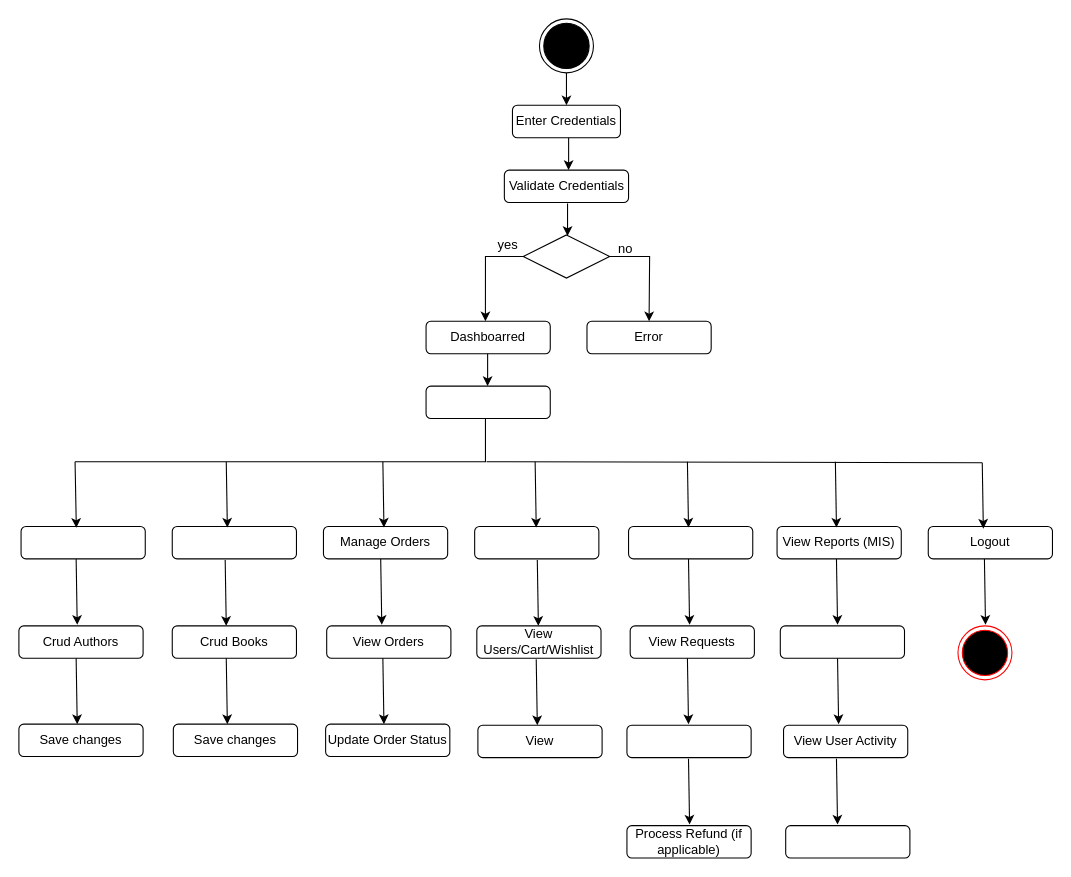
The diagram is 1071 pixels wide and 877 high, and some of its shapes have lost their labels. Each missing label, with the centre of its shape:
"Approve / Reject Request" belongs at (688,741).
"Credentials" belongs at (566,256).
"Handle Returns/Replacement" belongs at (690,542).
"Manage Authors" belongs at (82,542).
"Manage Books" belongs at (233,542).
"Select Action" belongs at (487,401).
"View Details" belongs at (536,542).
"View Revenue Analytics" belongs at (847,841).
"View Sales Report" belongs at (842,641).
